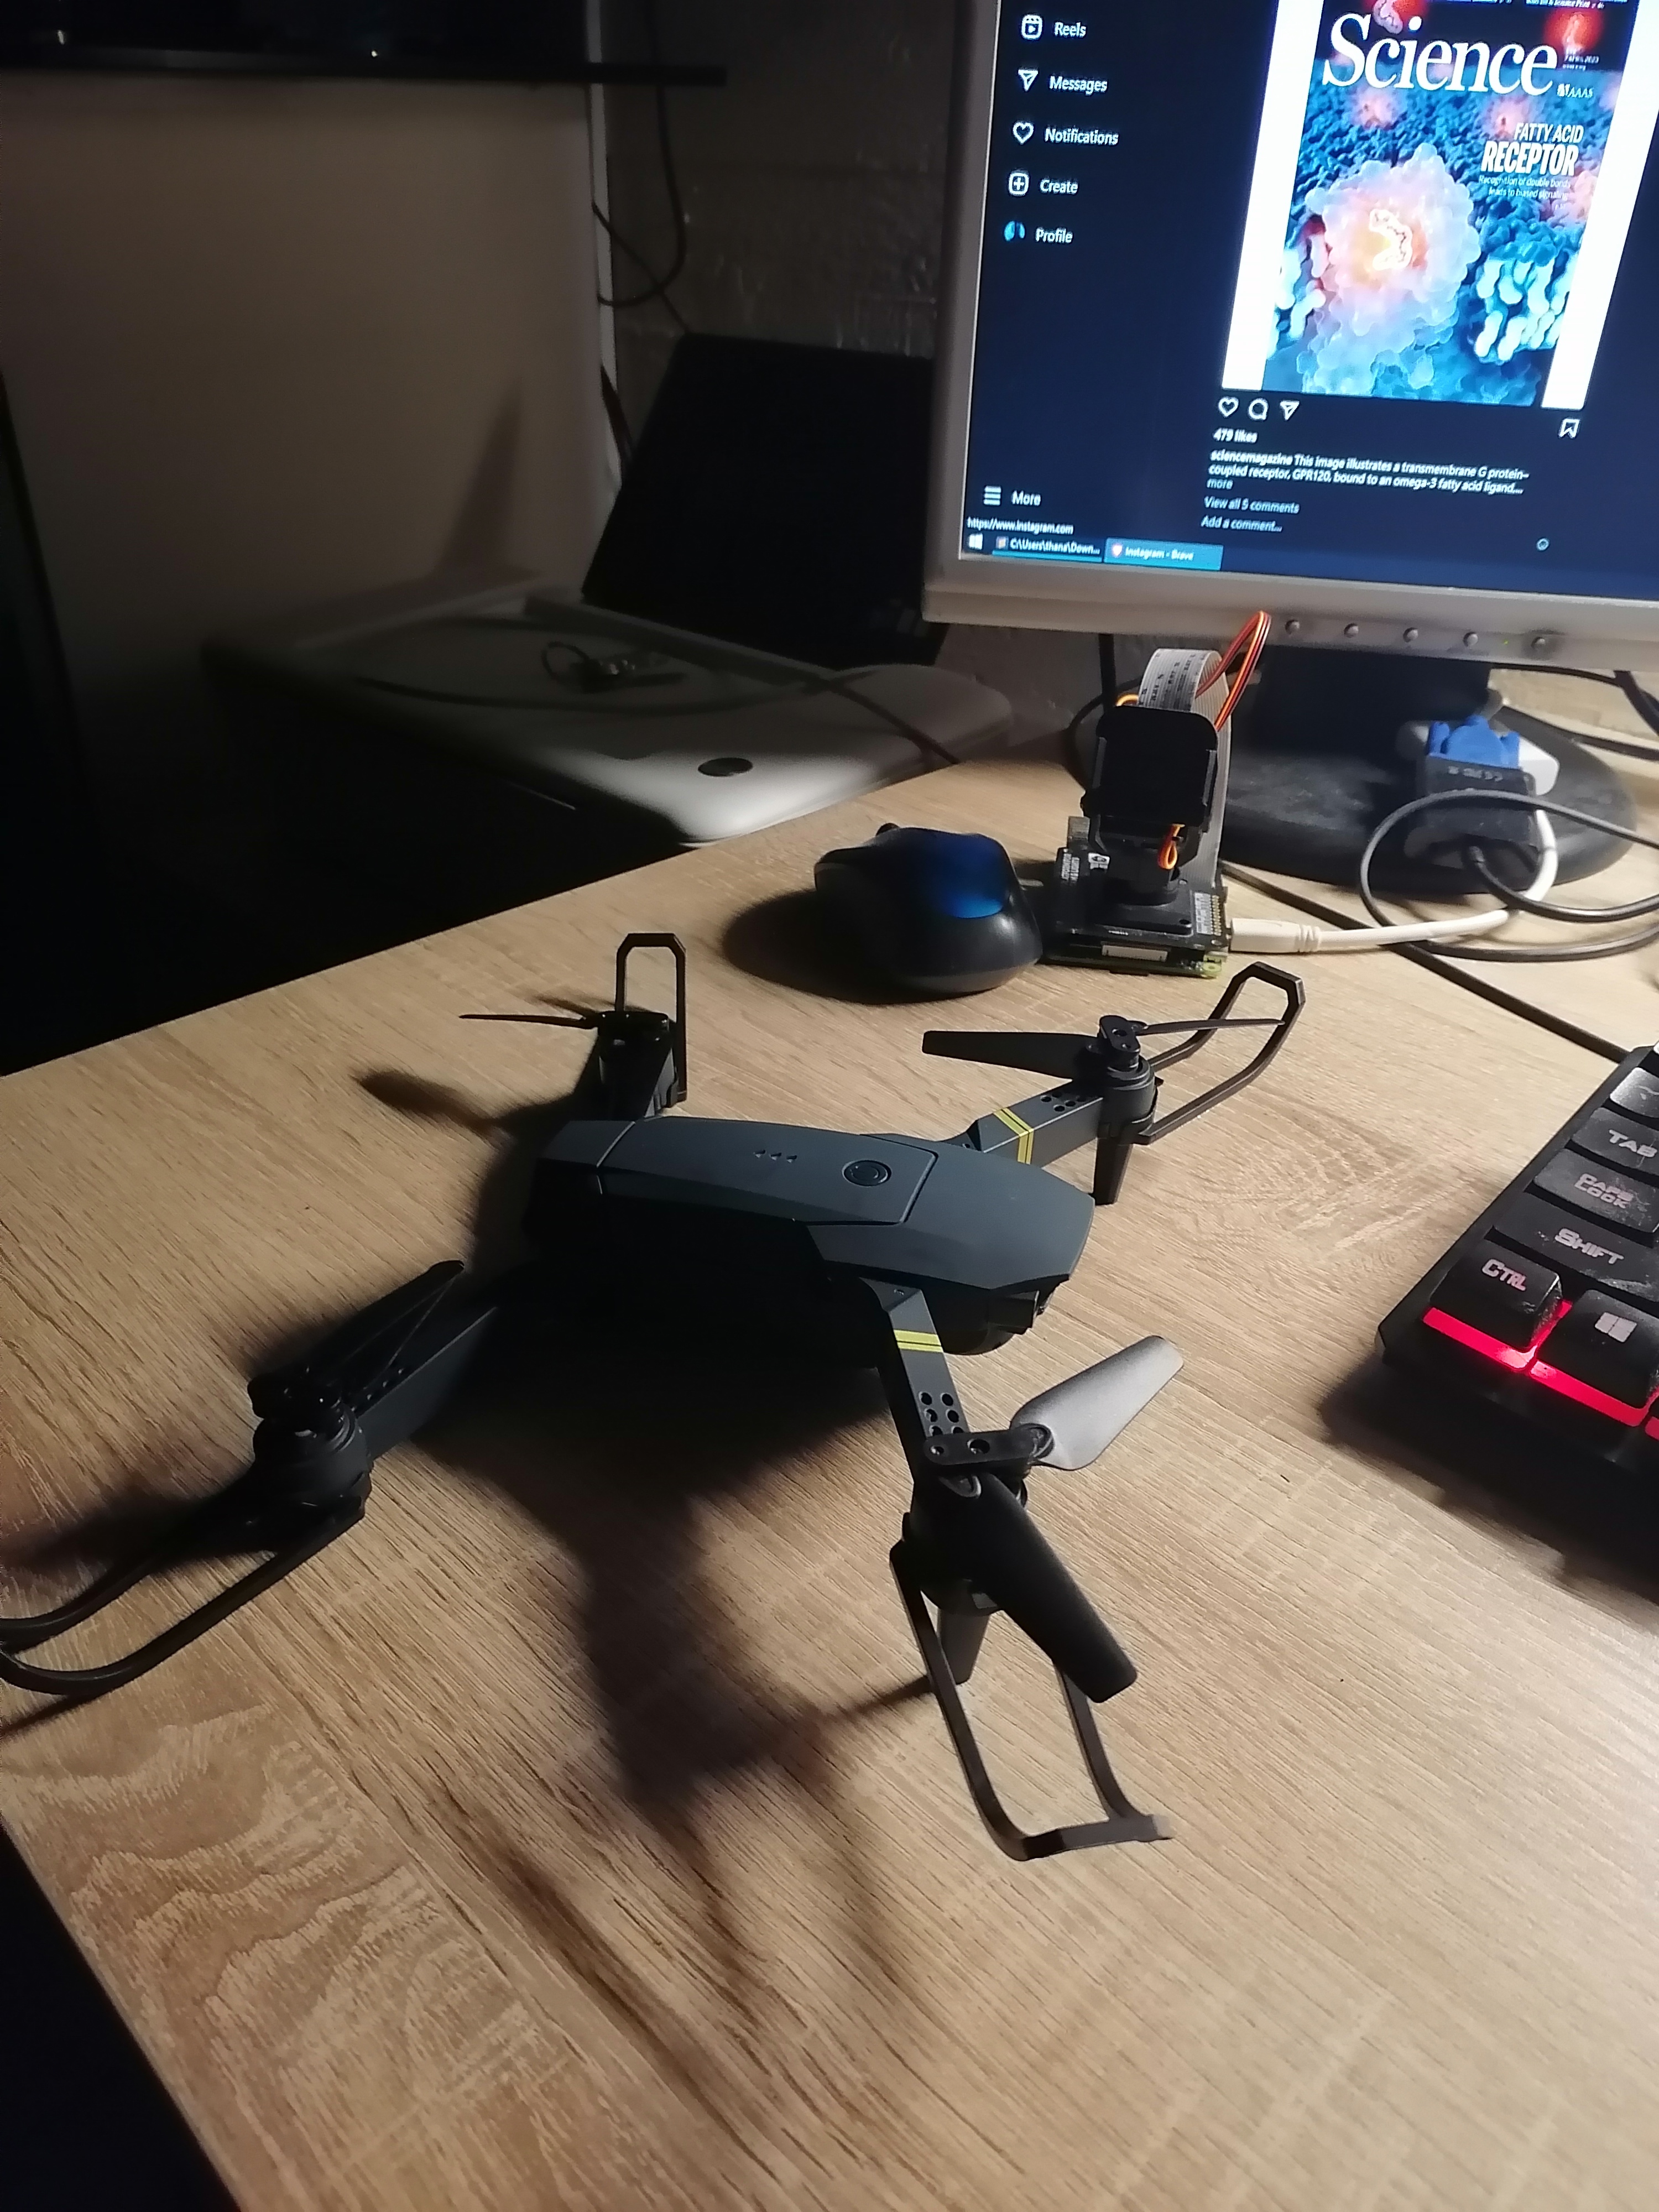drone: (333, 1033, 1373, 1853)
